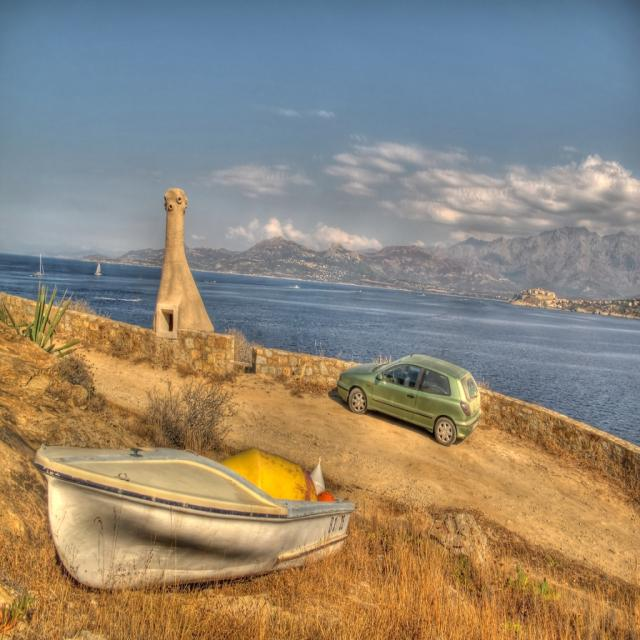car: (330, 357, 477, 451)
